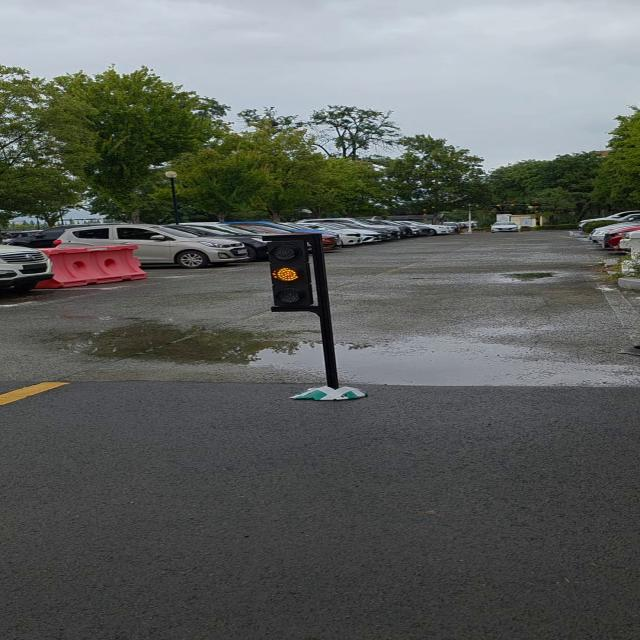yellow: (266, 236, 324, 316)
